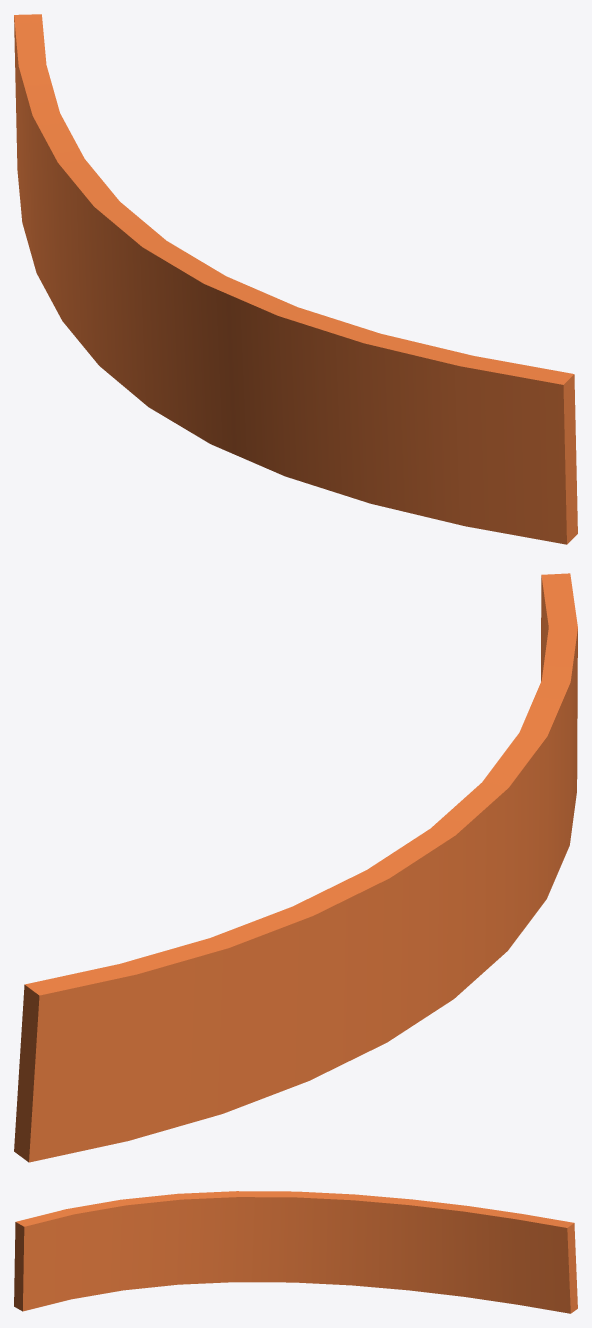
Rendered from barricade_curved2.fbx.
The picture shows the model from 3 angles, top to bottom: view 1: azimuth 30°, elevation 25°; view 2: azimuth 150°, elevation 25°; view 3: azimuth 270°, elevation 25°; orthographic projection. The views are drawn at different scales.
Visible parts, largest first — view 1: Cube; view 2: Cube; view 3: Cube.
Part boxes in pixels (x1=…): Cube: x1=14, y1=14, x2=577, y2=544; Cube: x1=14, y1=573, x2=577, y2=1162; Cube: x1=14, y1=1191, x2=577, y2=1313.
Bounding box in the file's own units: 233 × 226 × 1214.
